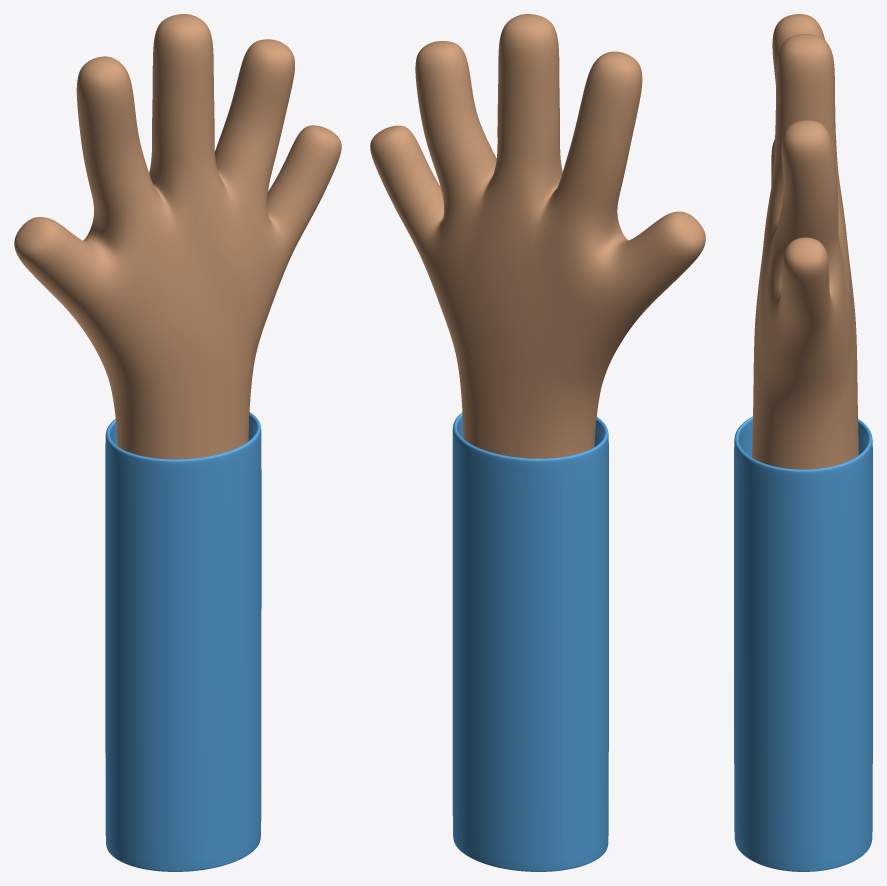
File: Hand2.0Raw.fbx
3 renders of one model, left to right at view 1: azimuth 30°, elevation 25°; view 2: azimuth 150°, elevation 25°; view 3: azimuth 270°, elevation 25°, orthographic. The views are drawn at different scales.
Parts seen in each view (by area): view 1: Cube, Circle; view 2: Cube, Circle; view 3: Circle, Cube.
Part boxes in pixels (left/top/right/bottom): Cube: left=14, top=14, right=341, bottom=459; Circle: left=105, top=412, right=261, bottom=871; Cube: left=370, top=14, right=705, bottom=458; Circle: left=452, top=413, right=608, bottom=871; Circle: left=734, top=416, right=872, bottom=871; Cube: left=752, top=14, right=858, bottom=469.
Bounding box in the file's own units: 374 × 909 × 142.
